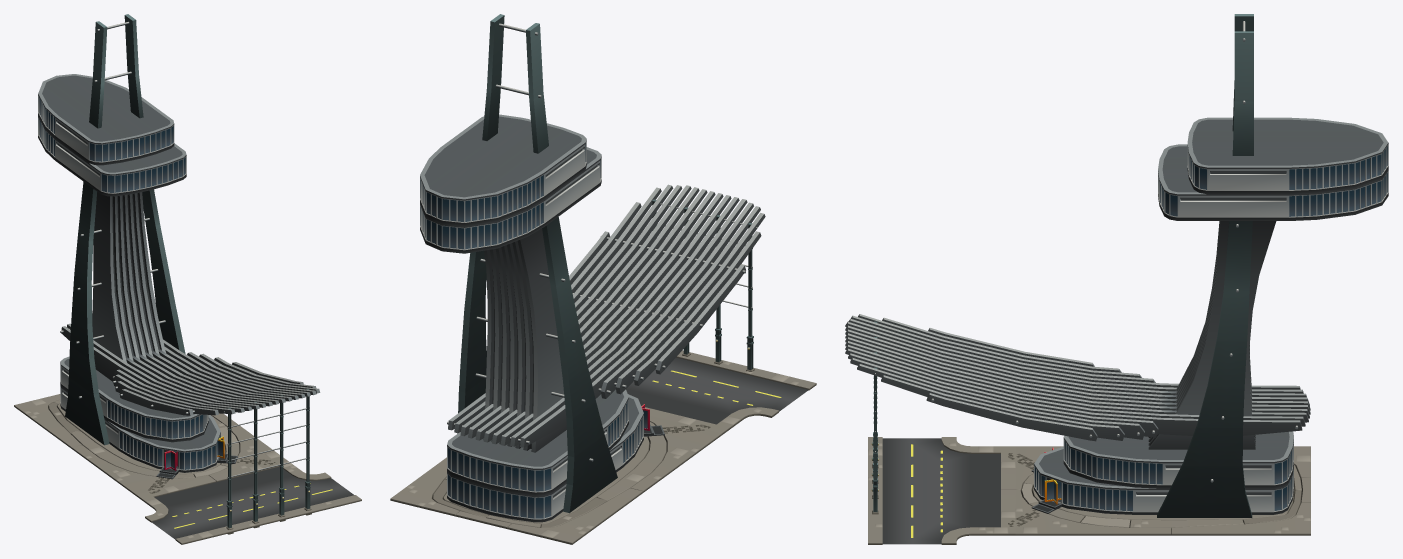
The model's file is Control_Tower_1B.fbx.
3 views of the same model, side by side, from view 1: azimuth 30°, elevation 25°; view 2: azimuth 150°, elevation 25°; view 3: azimuth 270°, elevation 25° (orthographic). The views are drawn at different scales.
Visible parts, largest first — view 1: Control_Tower_1B, Control_Tower_1B_Addon; view 2: Control_Tower_1B, Control_Tower_1B_Addon; view 3: Control_Tower_1B, Control_Tower_1B_Addon.
Boxes of the visible parts, x1,y1,x2,y2 form: Control_Tower_1B: (14, 14, 320, 534); Control_Tower_1B_Addon: (136, 458, 361, 544); Control_Tower_1B: (390, 14, 765, 544); Control_Tower_1B_Addon: (626, 350, 816, 434); Control_Tower_1B: (845, 14, 1388, 535); Control_Tower_1B_Addon: (868, 437, 1015, 544).
Bounding box in the file's own units: 3400 × 7049 × 7355.
